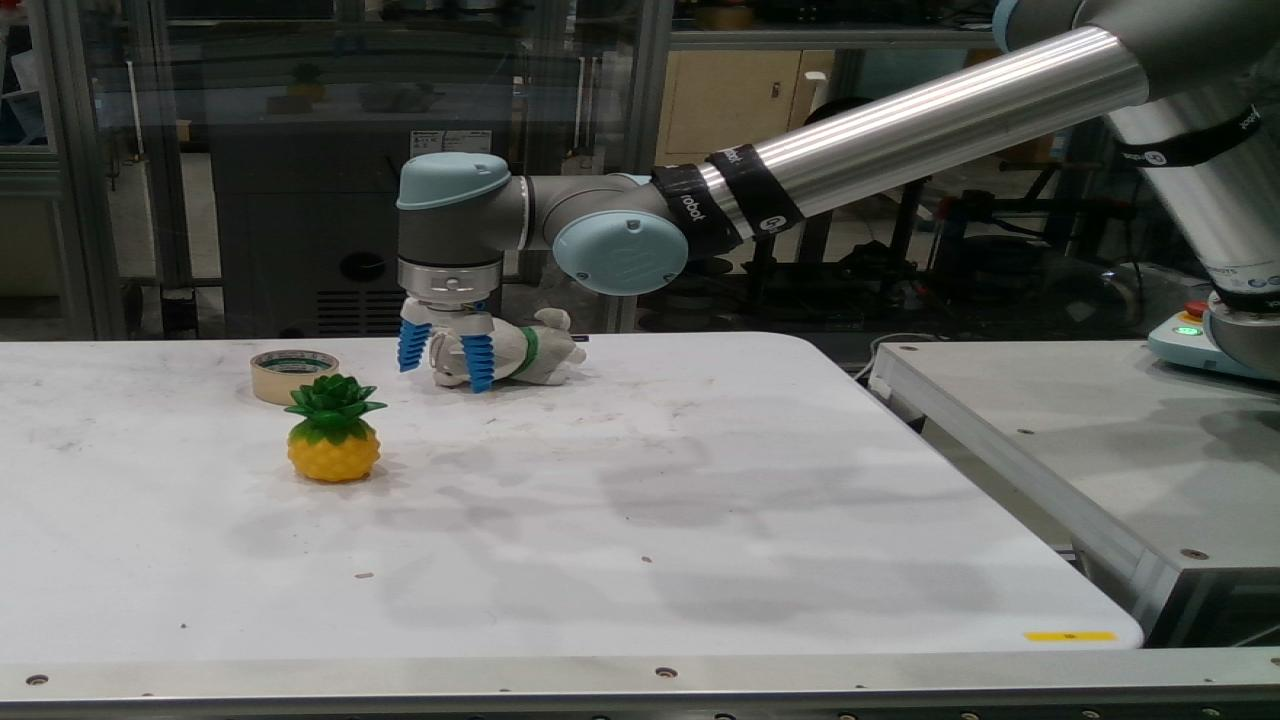UR5: (392, 0, 1268, 377)
gripper_left: (400, 321, 428, 370)
gripper_right: (464, 335, 492, 390)
target: (284, 375, 380, 480), (478, 309, 582, 386), (252, 351, 334, 404)
